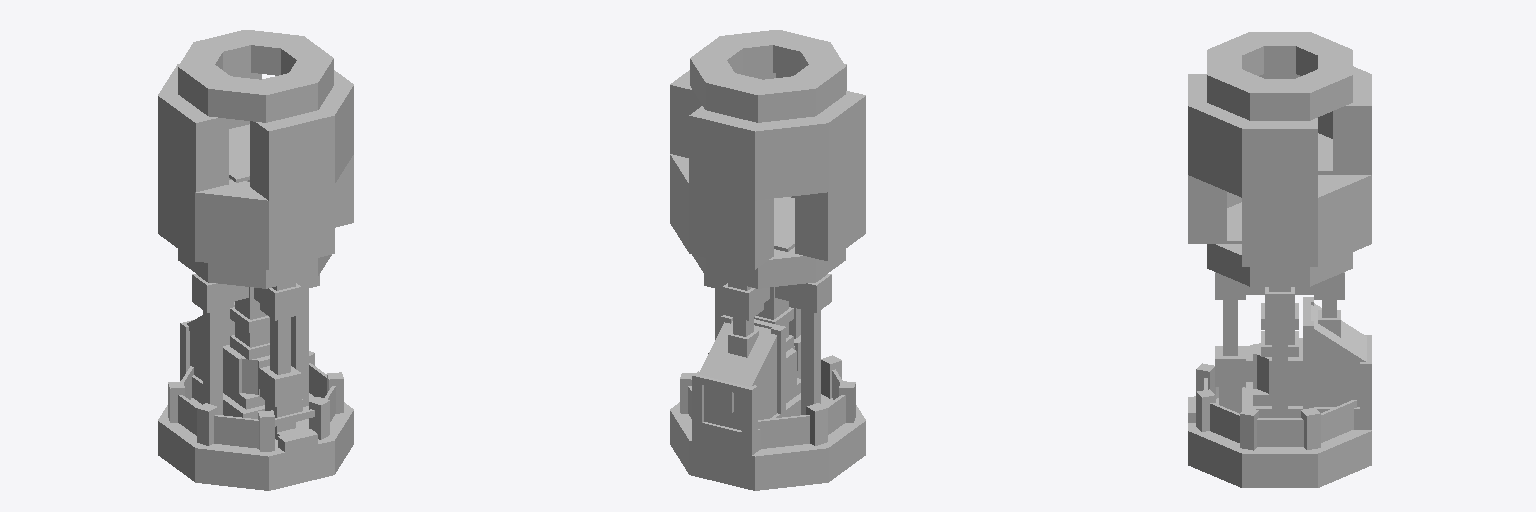
File: generator_t2.obj
3 views of the same model, side by side, from view 1: azimuth 30°, elevation 25°; view 2: azimuth 150°, elevation 25°; view 3: azimuth 270°, elevation 25° (orthographic).
Visible parts, largest first — view 1: ctr, blq1b, blq2, blq4b, blq3, baseNW, cbr, blq1, baseW, supporterN, blq2b, baseN (+18 smaller); view 2: ctr, blq4, blq5b, blq6b, blq1, cbr, blq4b, baseNE, iroof, baseE, supporterN, floor1 (+17 smaller); view 3: ctr, blq3b, blq6, blq5, blq2b, blq6b, cbr, baseS, iboxN1, blq3, baseSW, baseSE (+20 smaller).
Boxes of the visible parts, <box> form: ctr: <box>178,30,333,122</box>; blq1b: <box>250,106,334,200</box>; blq2: <box>195,180,268,269</box>; blq4b: <box>158,91,228,191</box>; blq3: <box>269,185,334,269</box>; baseNW: <box>195,444,268,490</box>; cbr: <box>178,249,331,288</box>; blq1: <box>158,165,194,260</box>; baseW: <box>263,428,334,490</box>; supporterN: <box>203,310,222,414</box>; blq2b: <box>321,85,353,182</box>; baseN: <box>158,418,205,481</box>; ctr: <box>690,30,845,122</box>; blq4: <box>689,185,773,269</box>; blq5b: <box>755,118,828,200</box>; blq6b: <box>689,106,767,200</box>; blq1: <box>795,165,865,260</box>; cbr: <box>692,247,845,288</box>; blq4b: <box>806,91,865,191</box>; baseNE: <box>755,444,828,490</box>; iroof: <box>698,321,776,386</box>; baseE: <box>689,439,764,490</box>; supporterN: <box>801,310,820,414</box>; floor1: <box>692,393,800,455</box>; ctr: <box>1207,32,1352,120</box>; blq3b: <box>1242,118,1317,197</box>; blq6: <box>1242,198,1317,266</box>; blq5: <box>1318,175,1371,266</box>; blq2b: <box>1188,106,1241,197</box>; blq6b: <box>1333,74,1371,174</box>; cbr: <box>1207,244,1352,286</box>; baseS: <box>1242,447,1317,487</box>; iboxN1: <box>1314,338,1359,406</box>; blq3: <box>1188,175,1226,243</box>; baseSW: <box>1188,431,1241,487</box>; baseSE: <box>1318,431,1371,487</box>.
Bounding box in the file's own units: 3 × 7 × 3.